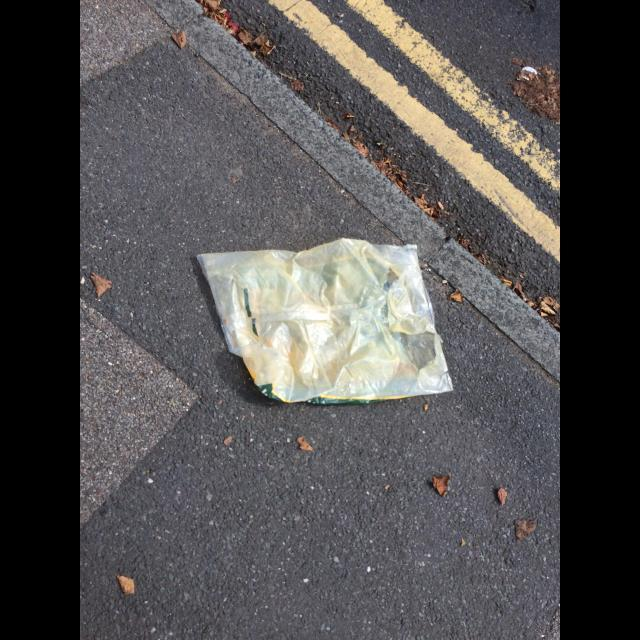Plastic: (196, 238, 454, 404)
